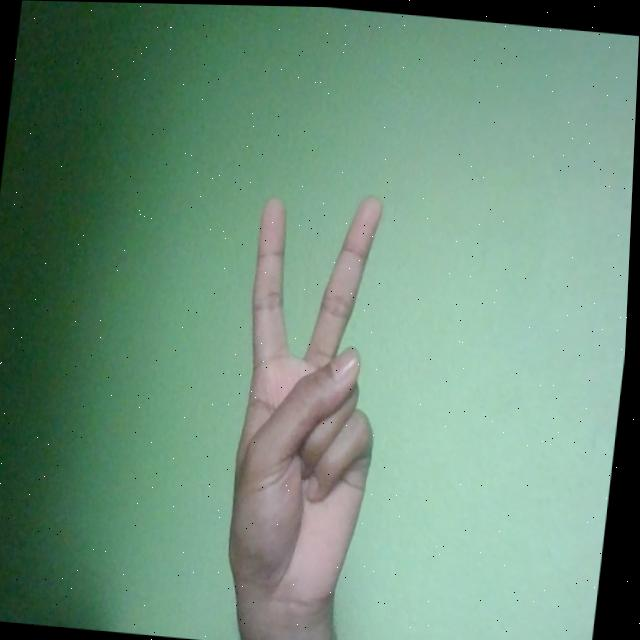Peace: (220, 183, 405, 618)
